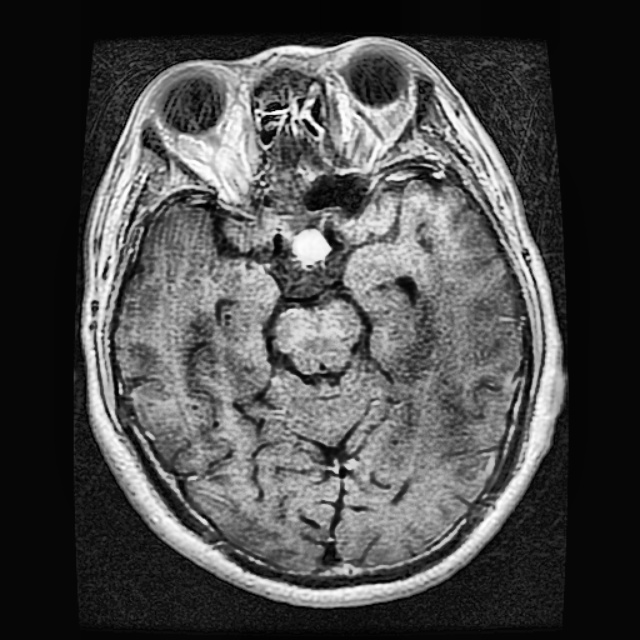Pituitary: (294, 228, 327, 260)
